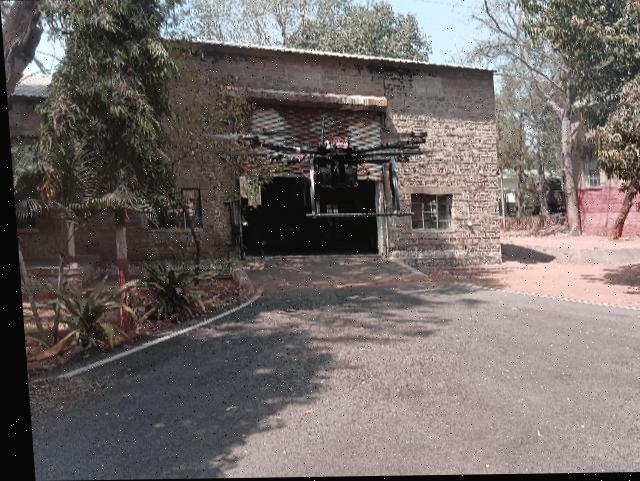drone: (189, 94, 447, 244)
